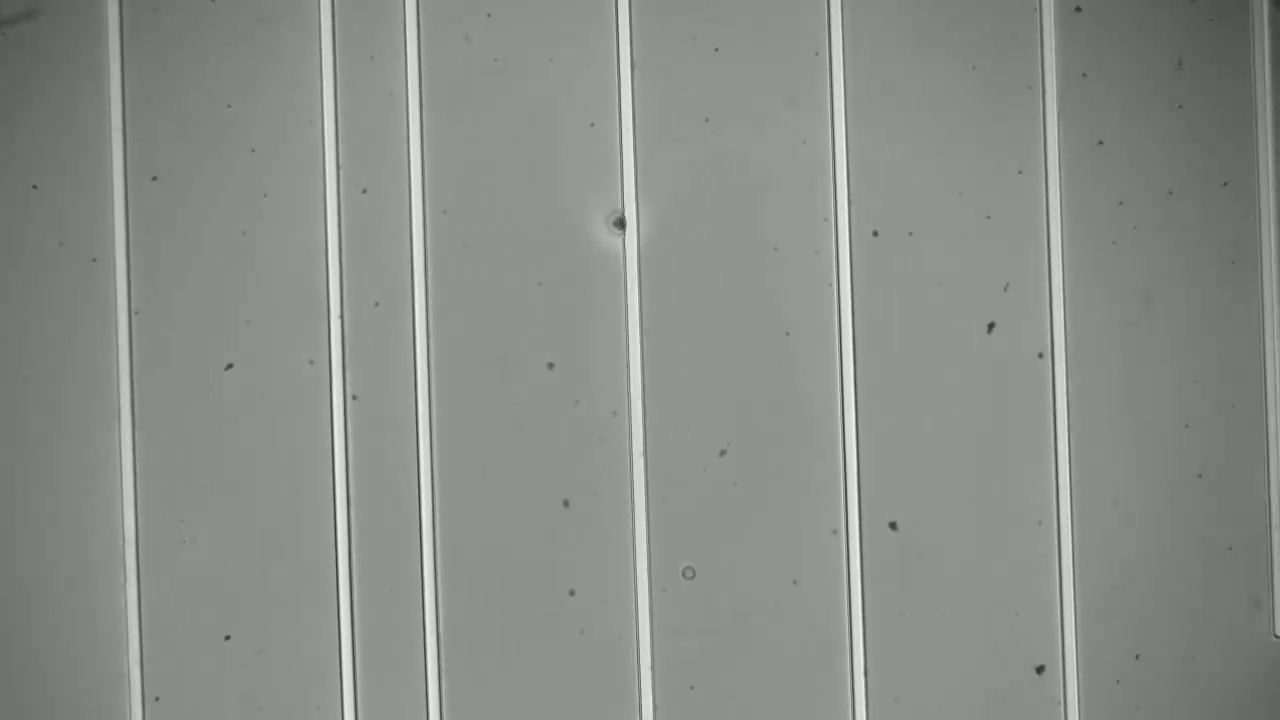stains_enbedded: (604, 204, 647, 241)
